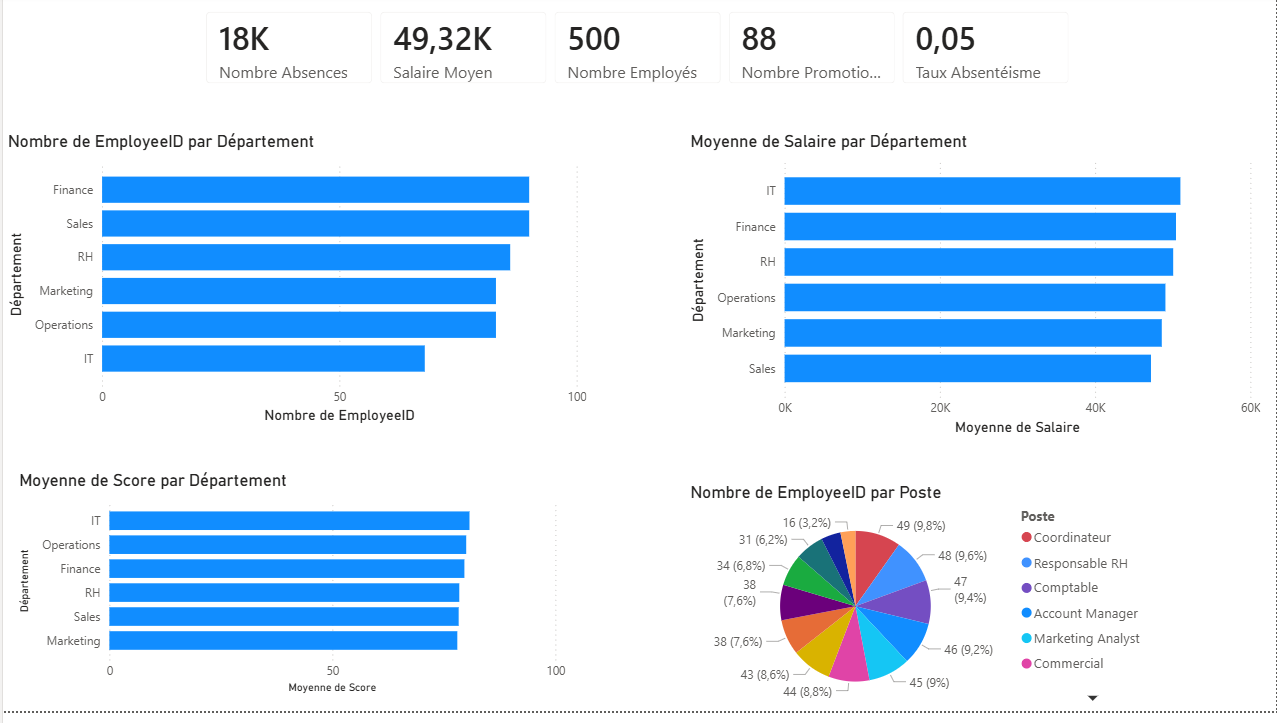

This screenshot's page, from the dashboard's own definition file:
{"tool":"powerbi","page":{"name":"Page 1","canvas":[1280,720],"ordinal":0},"visuals":[{"type":"cardVisual","fields":{"Data":["attendance.Nombre Absences","attendance.Salaire Moyen","employees.Nombre Employés","promotions.Nombre Promotions","attendance.Taux Absentéisme"]},"box":[187.2,0,904.6,106.8],"z":0},{"type":"clusteredBarChart","fields":{"Category":["employees.Département"],"Y":["Avg(employees.Salaire)"]},"box":[686,136.9,583,310.3],"z":2},{"type":"barChart","fields":{"Category":["employees.Département"],"Y":["Avg(performance.Score)"]},"box":[11.3,477.4,559.1,229.9],"z":3},{"type":"pieChart","fields":{"Category":["employees.Poste"],"Y":["Count(employees.EmployeeID)"]},"box":[686,490,485,229.9],"z":4},{"type":"clusteredBarChart","fields":{"Category":["employees.Département"],"Y":["CountNonNull(employees.EmployeeID)"]},"box":[0,136.9,591.8,299],"z":5}]}

Visuals, with their boxes in screenshot pixels (x1, y1, x2, y2), scaled from the page's 1280x720 canvas onto the 1277x723 screenshot:
cardVisual - attendance.Nombre Absences x attendance.Salaire Moyen: [x1=187, y1=0, x2=1089, y2=107]
clusteredBarChart - employees.Département x Avg(employees.Salaire): [x1=684, y1=137, x2=1266, y2=449]
barChart - employees.Département x Avg(performance.Score): [x1=11, y1=479, x2=569, y2=710]
pieChart - employees.Poste x Count(employees.EmployeeID): [x1=684, y1=492, x2=1168, y2=722]
clusteredBarChart - employees.Département x CountNonNull(employees.EmployeeID): [x1=0, y1=137, x2=590, y2=438]
